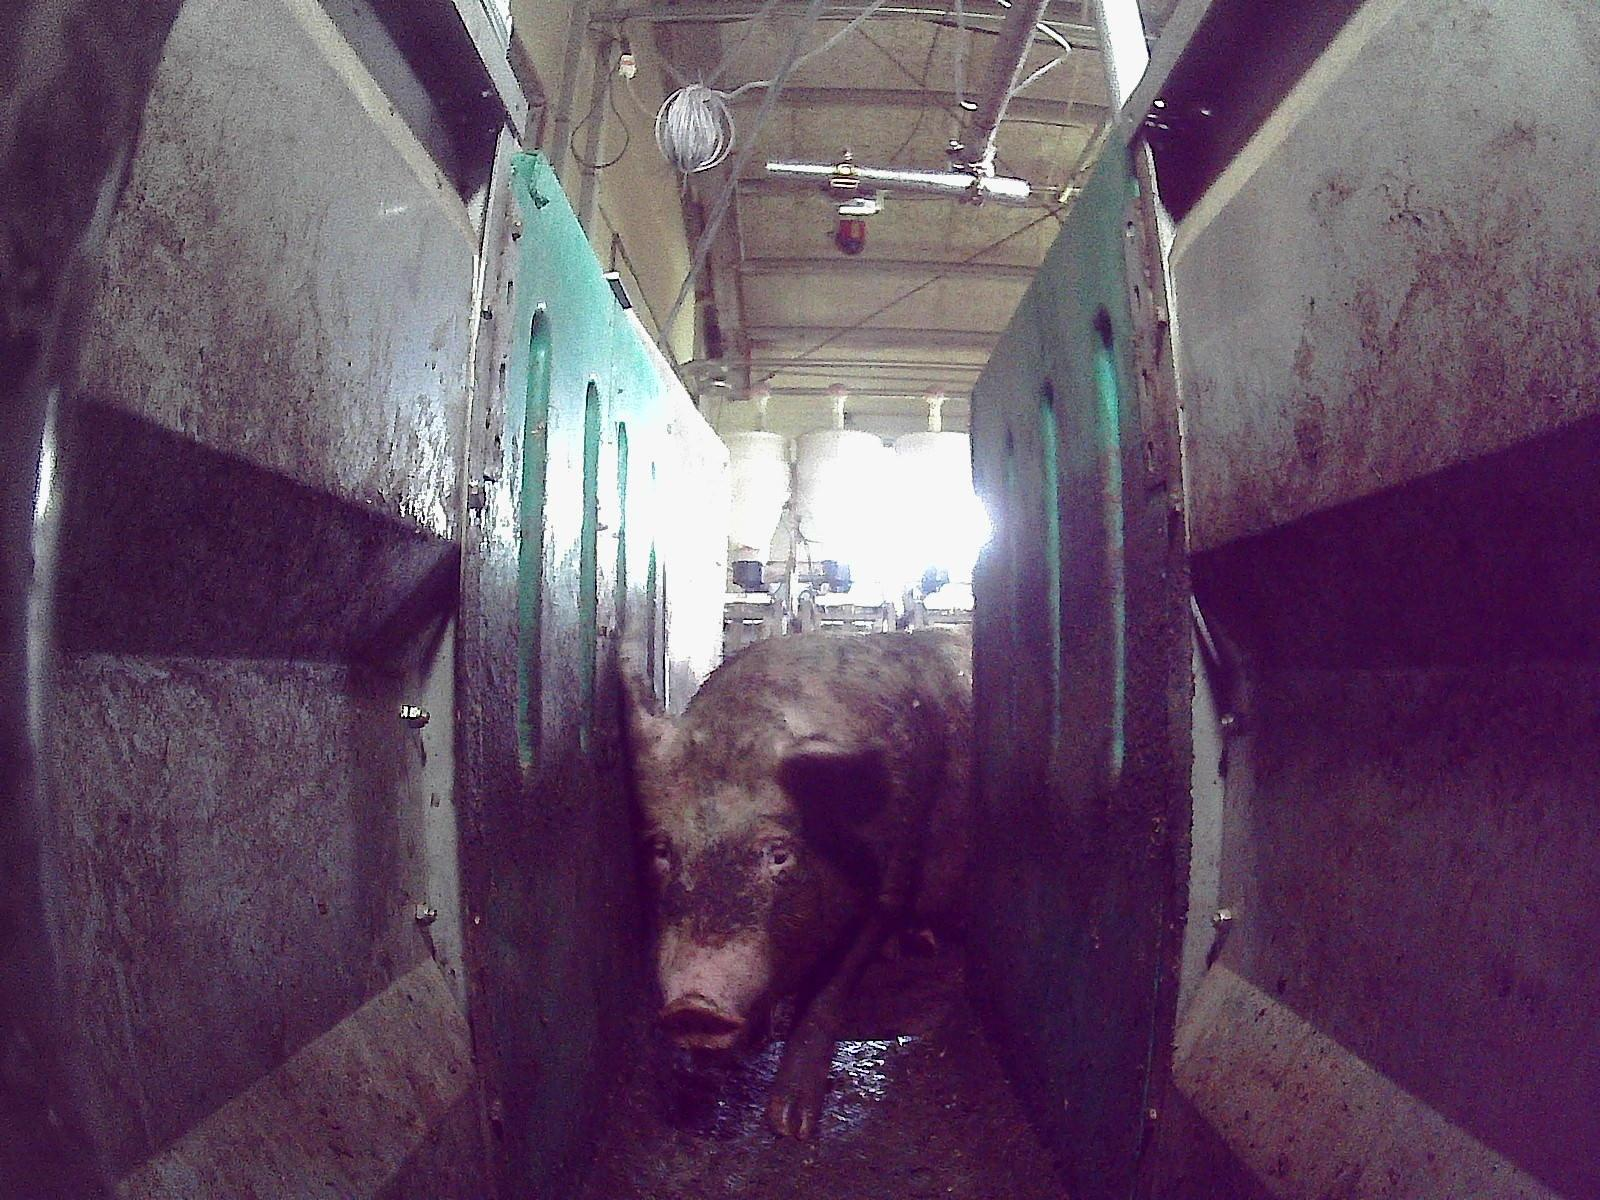Face: (628, 730, 839, 1048)
